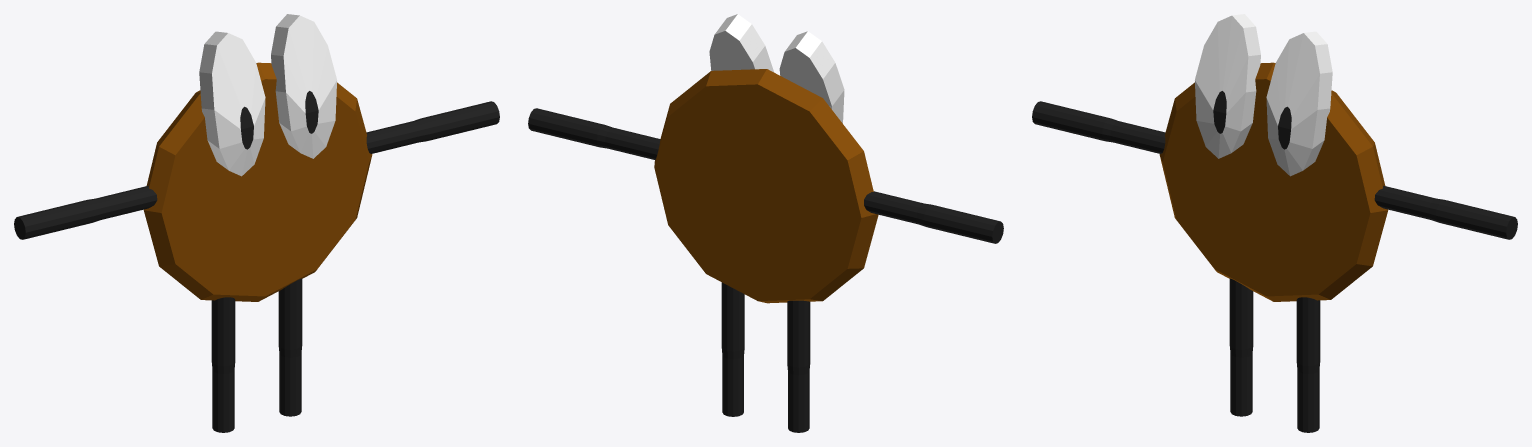
File: Character.fbx
3 renders of one model, left to right at view 1: azimuth 30°, elevation 25°; view 2: azimuth 150°, elevation 25°; view 3: azimuth 330°, elevation 25°, orthographic. The views are drawn at different scales.
Visible parts, largest first — view 1: Moja; view 2: Moja; view 3: Moja.
Boxes of the visible parts, box(x1,y1,x2,y2) form: Moja: box(14, 14, 499, 432); Moja: box(528, 14, 1003, 432); Moja: box(1032, 14, 1517, 432).
Bounding box in the file's own units: 448 × 362 × 51.37.
